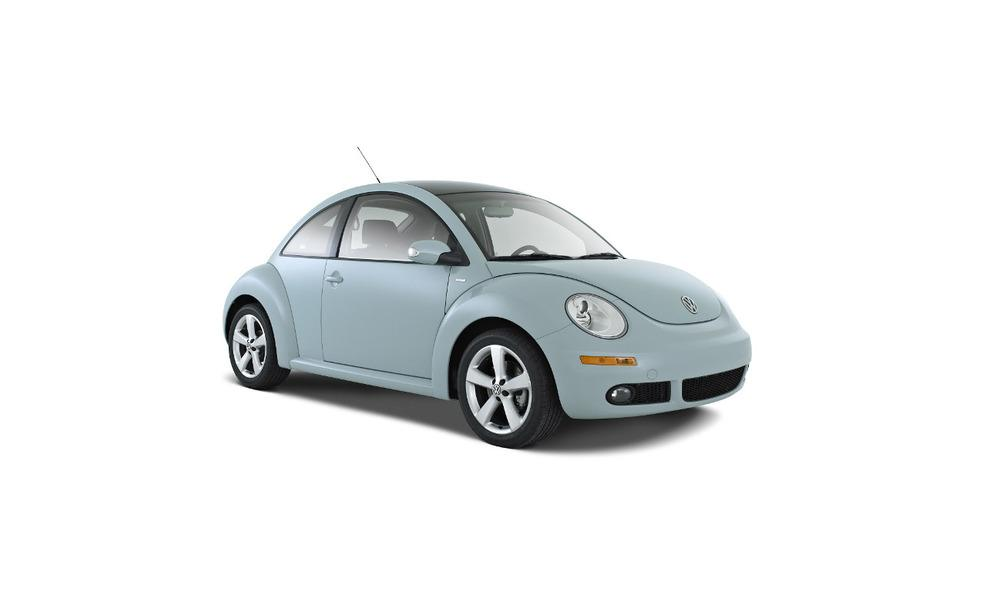front_view: (28, 183, 479, 448)
headlight: (227, 219, 458, 311)
side_glass: (588, 41, 760, 159)
